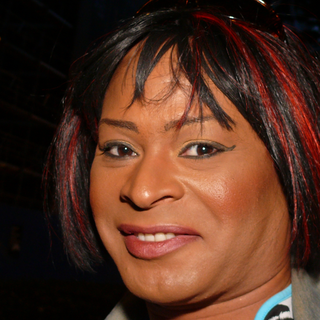eye: (179, 138, 228, 163), (100, 138, 142, 163)
